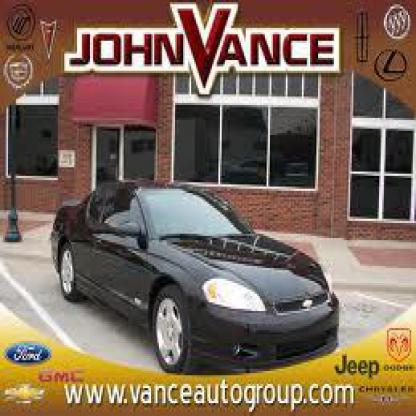Vehicle: (47, 176, 345, 375)
